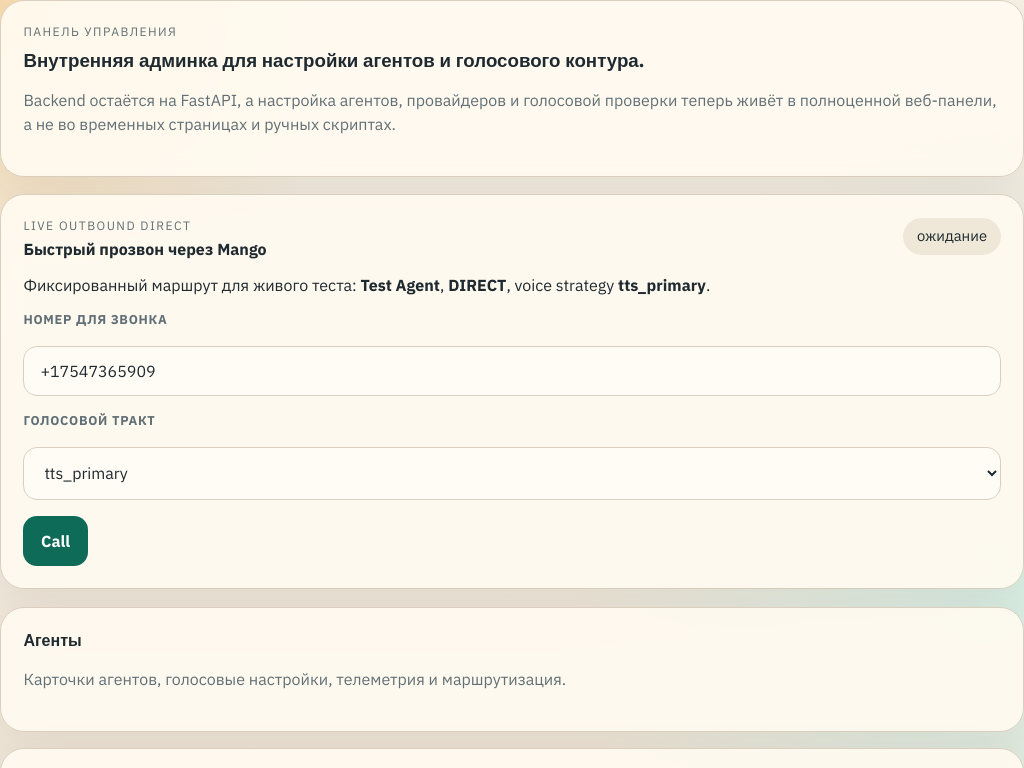
dashboard dial panel smoke › shows a clearer operator message for answer timeout while keeping debug payload
Check: the heading "Быстрый прозвон через Mango" is shown, box [23, 239, 267, 259]
Click the button "Call": point(56, 541) [23, 516, 88, 566]
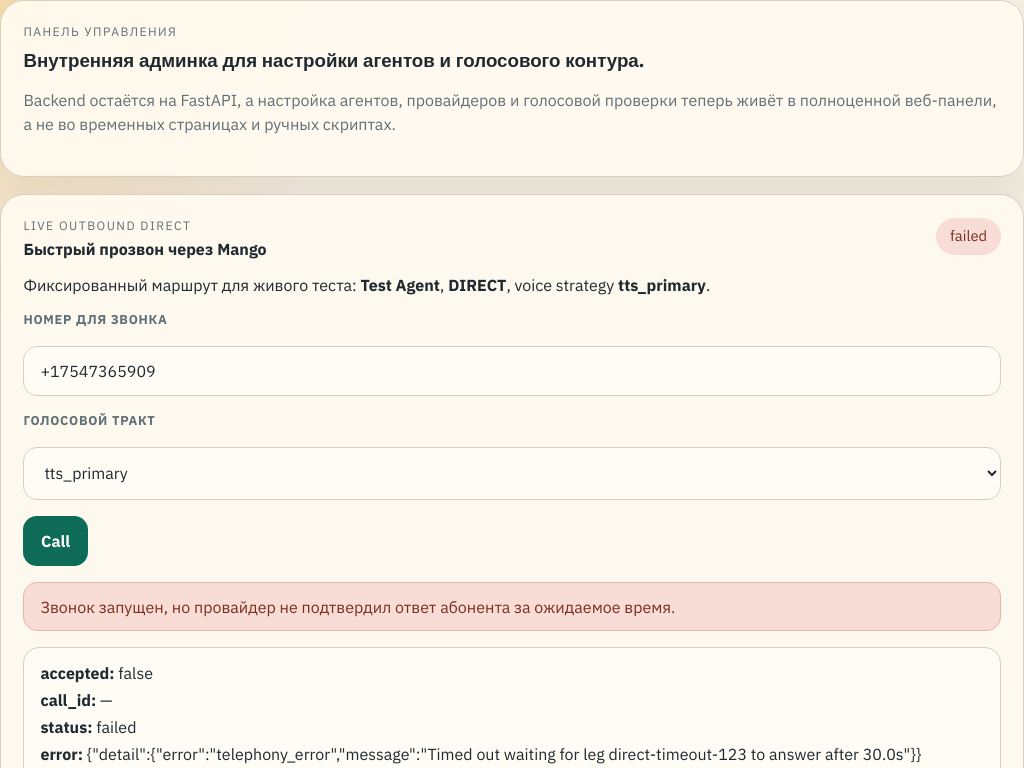
Check: the text "провайдер не подтвердил ответ абонента" is shown, box [40, 597, 675, 617]
Check: the text "Timed out waiting for leg direct-timeout-123" is shown, box [87, 744, 921, 764]
